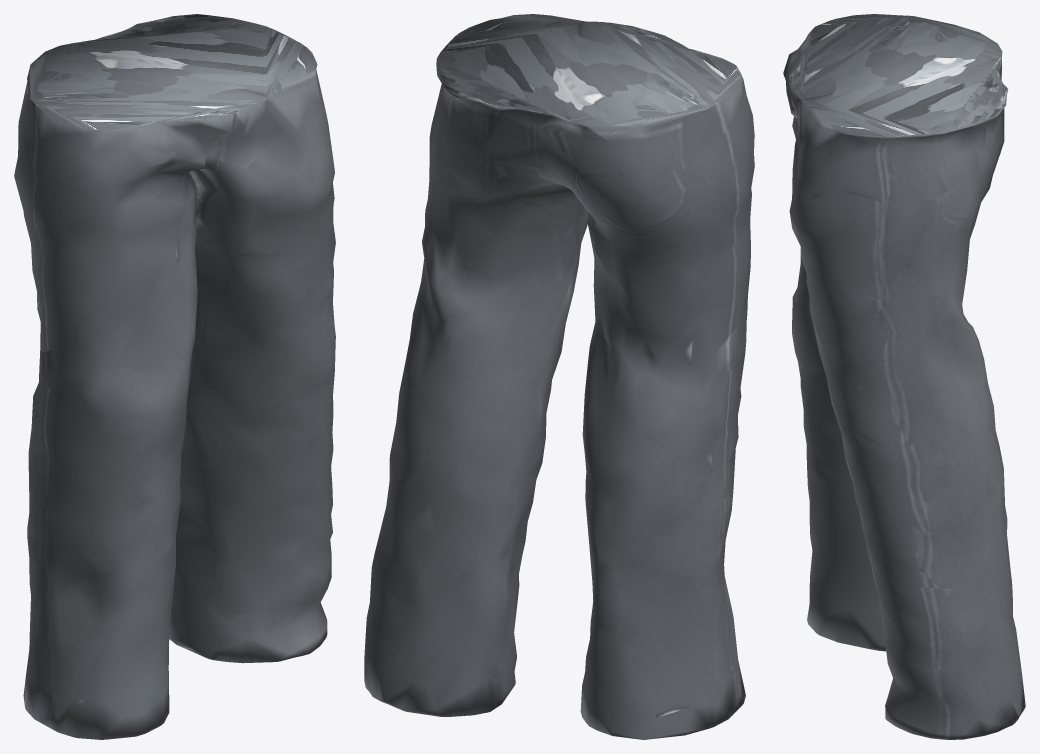
The model's file is statue-legs.glb.
3 views of the same model, side by side, from view 1: azimuth 30°, elevation 25°; view 2: azimuth 150°, elevation 25°; view 3: azimuth 270°, elevation 25° (orthographic). The views are drawn at different scales.
Visible parts, largest first — view 1: legs; view 2: legs; view 3: legs.
Boxes of the visible parts, bbox=[...] form: legs: bbox=[14, 14, 335, 739]; legs: bbox=[364, 14, 754, 739]; legs: bbox=[783, 14, 1025, 739].
Bounding box in the file's own units: 0.4471 × 0.7987 × 0.3027.
Materials: 1 (1 with a texture image).
